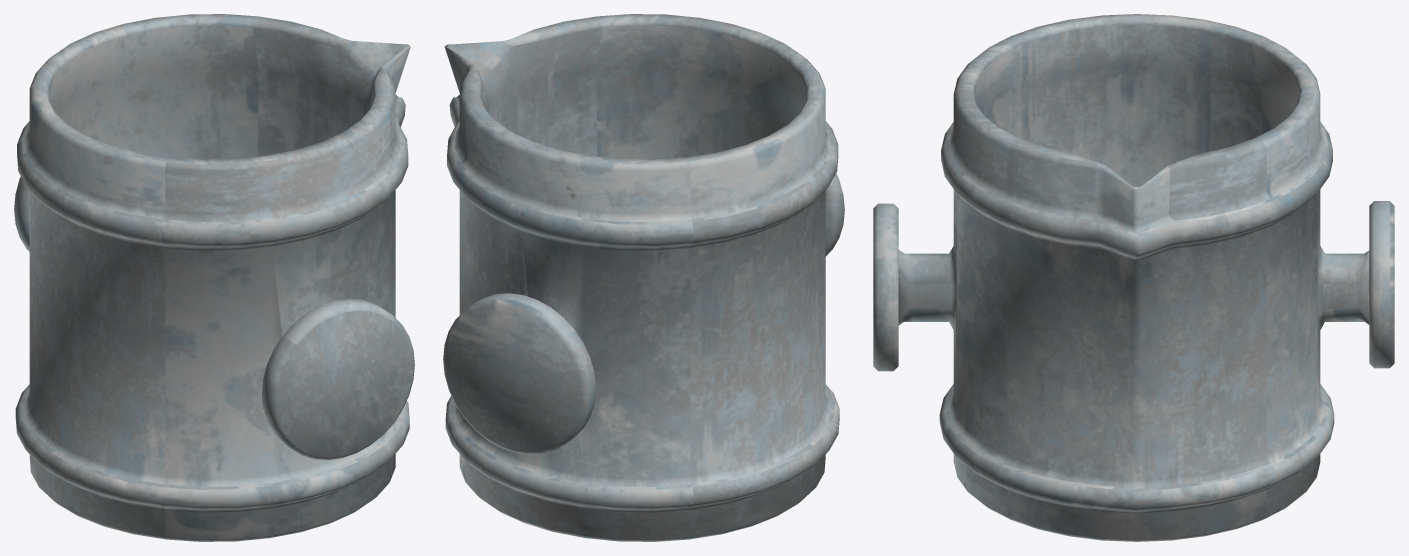
File: FM-01 SmeltBucket.fbx
3 views of the same model, side by side, from view 1: azimuth 30°, elevation 25°; view 2: azimuth 150°, elevation 25°; view 3: azimuth 270°, elevation 25° (orthographic).
Parts seen in each view (by area): view 1: Cylinder.001; view 2: Cylinder.001; view 3: Cylinder.001.
Boxes of the visible parts, x1=… form: Cylinder.001: x1=14, y1=14, x2=414, y2=541; Cylinder.001: x1=443, y1=14, x2=844, y2=541; Cylinder.001: x1=873, y1=14, x2=1394, y2=541.
Size of the model in its own units: 333 by 327 by 409.
